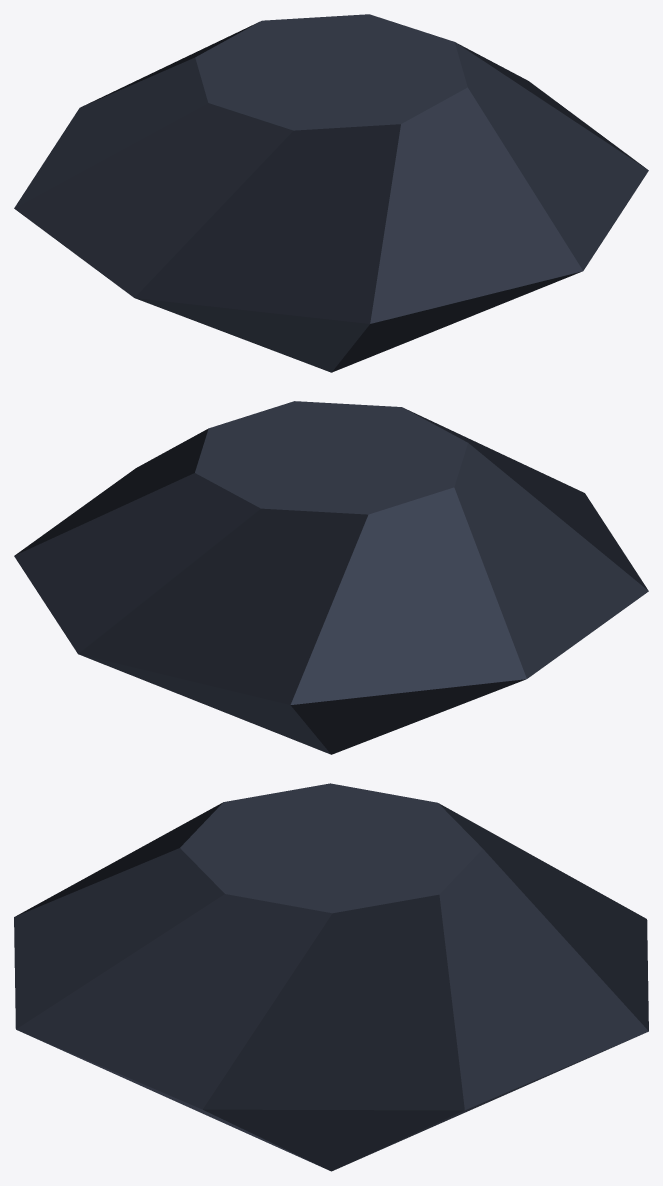
Rendered from Onyx.glb.
The picture shows the model from 3 angles, top to bottom: view 1: azimuth 30°, elevation 25°; view 2: azimuth 150°, elevation 25°; view 3: azimuth 270°, elevation 25°; orthographic projection. The views are drawn at different scales.
Visible parts, largest first — view 1: Onyx_gem; view 2: Onyx_gem; view 3: Onyx_gem.
Part boxes in pixels (x1,y1,x2,y2): Onyx_gem: [14, 14, 648, 372]; Onyx_gem: [14, 401, 648, 754]; Onyx_gem: [14, 783, 648, 1171].
Bounding box in the file's own units: 0.9801 × 0.5428 × 0.9665.
